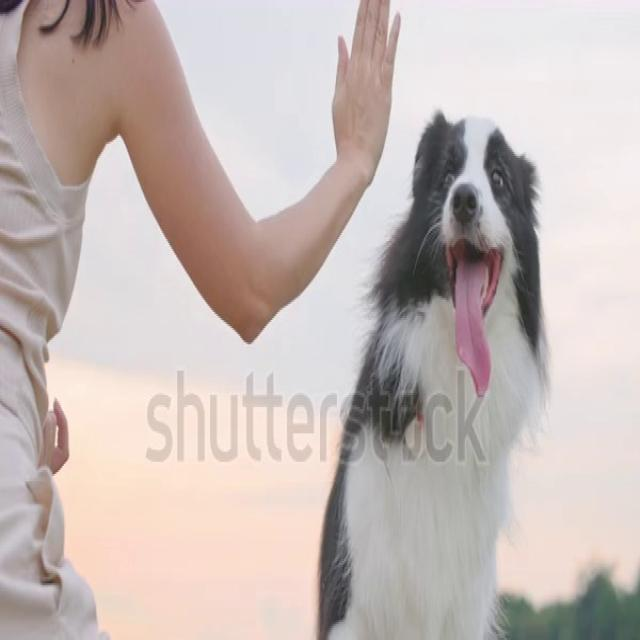normal_animals: (313, 105, 552, 638)
